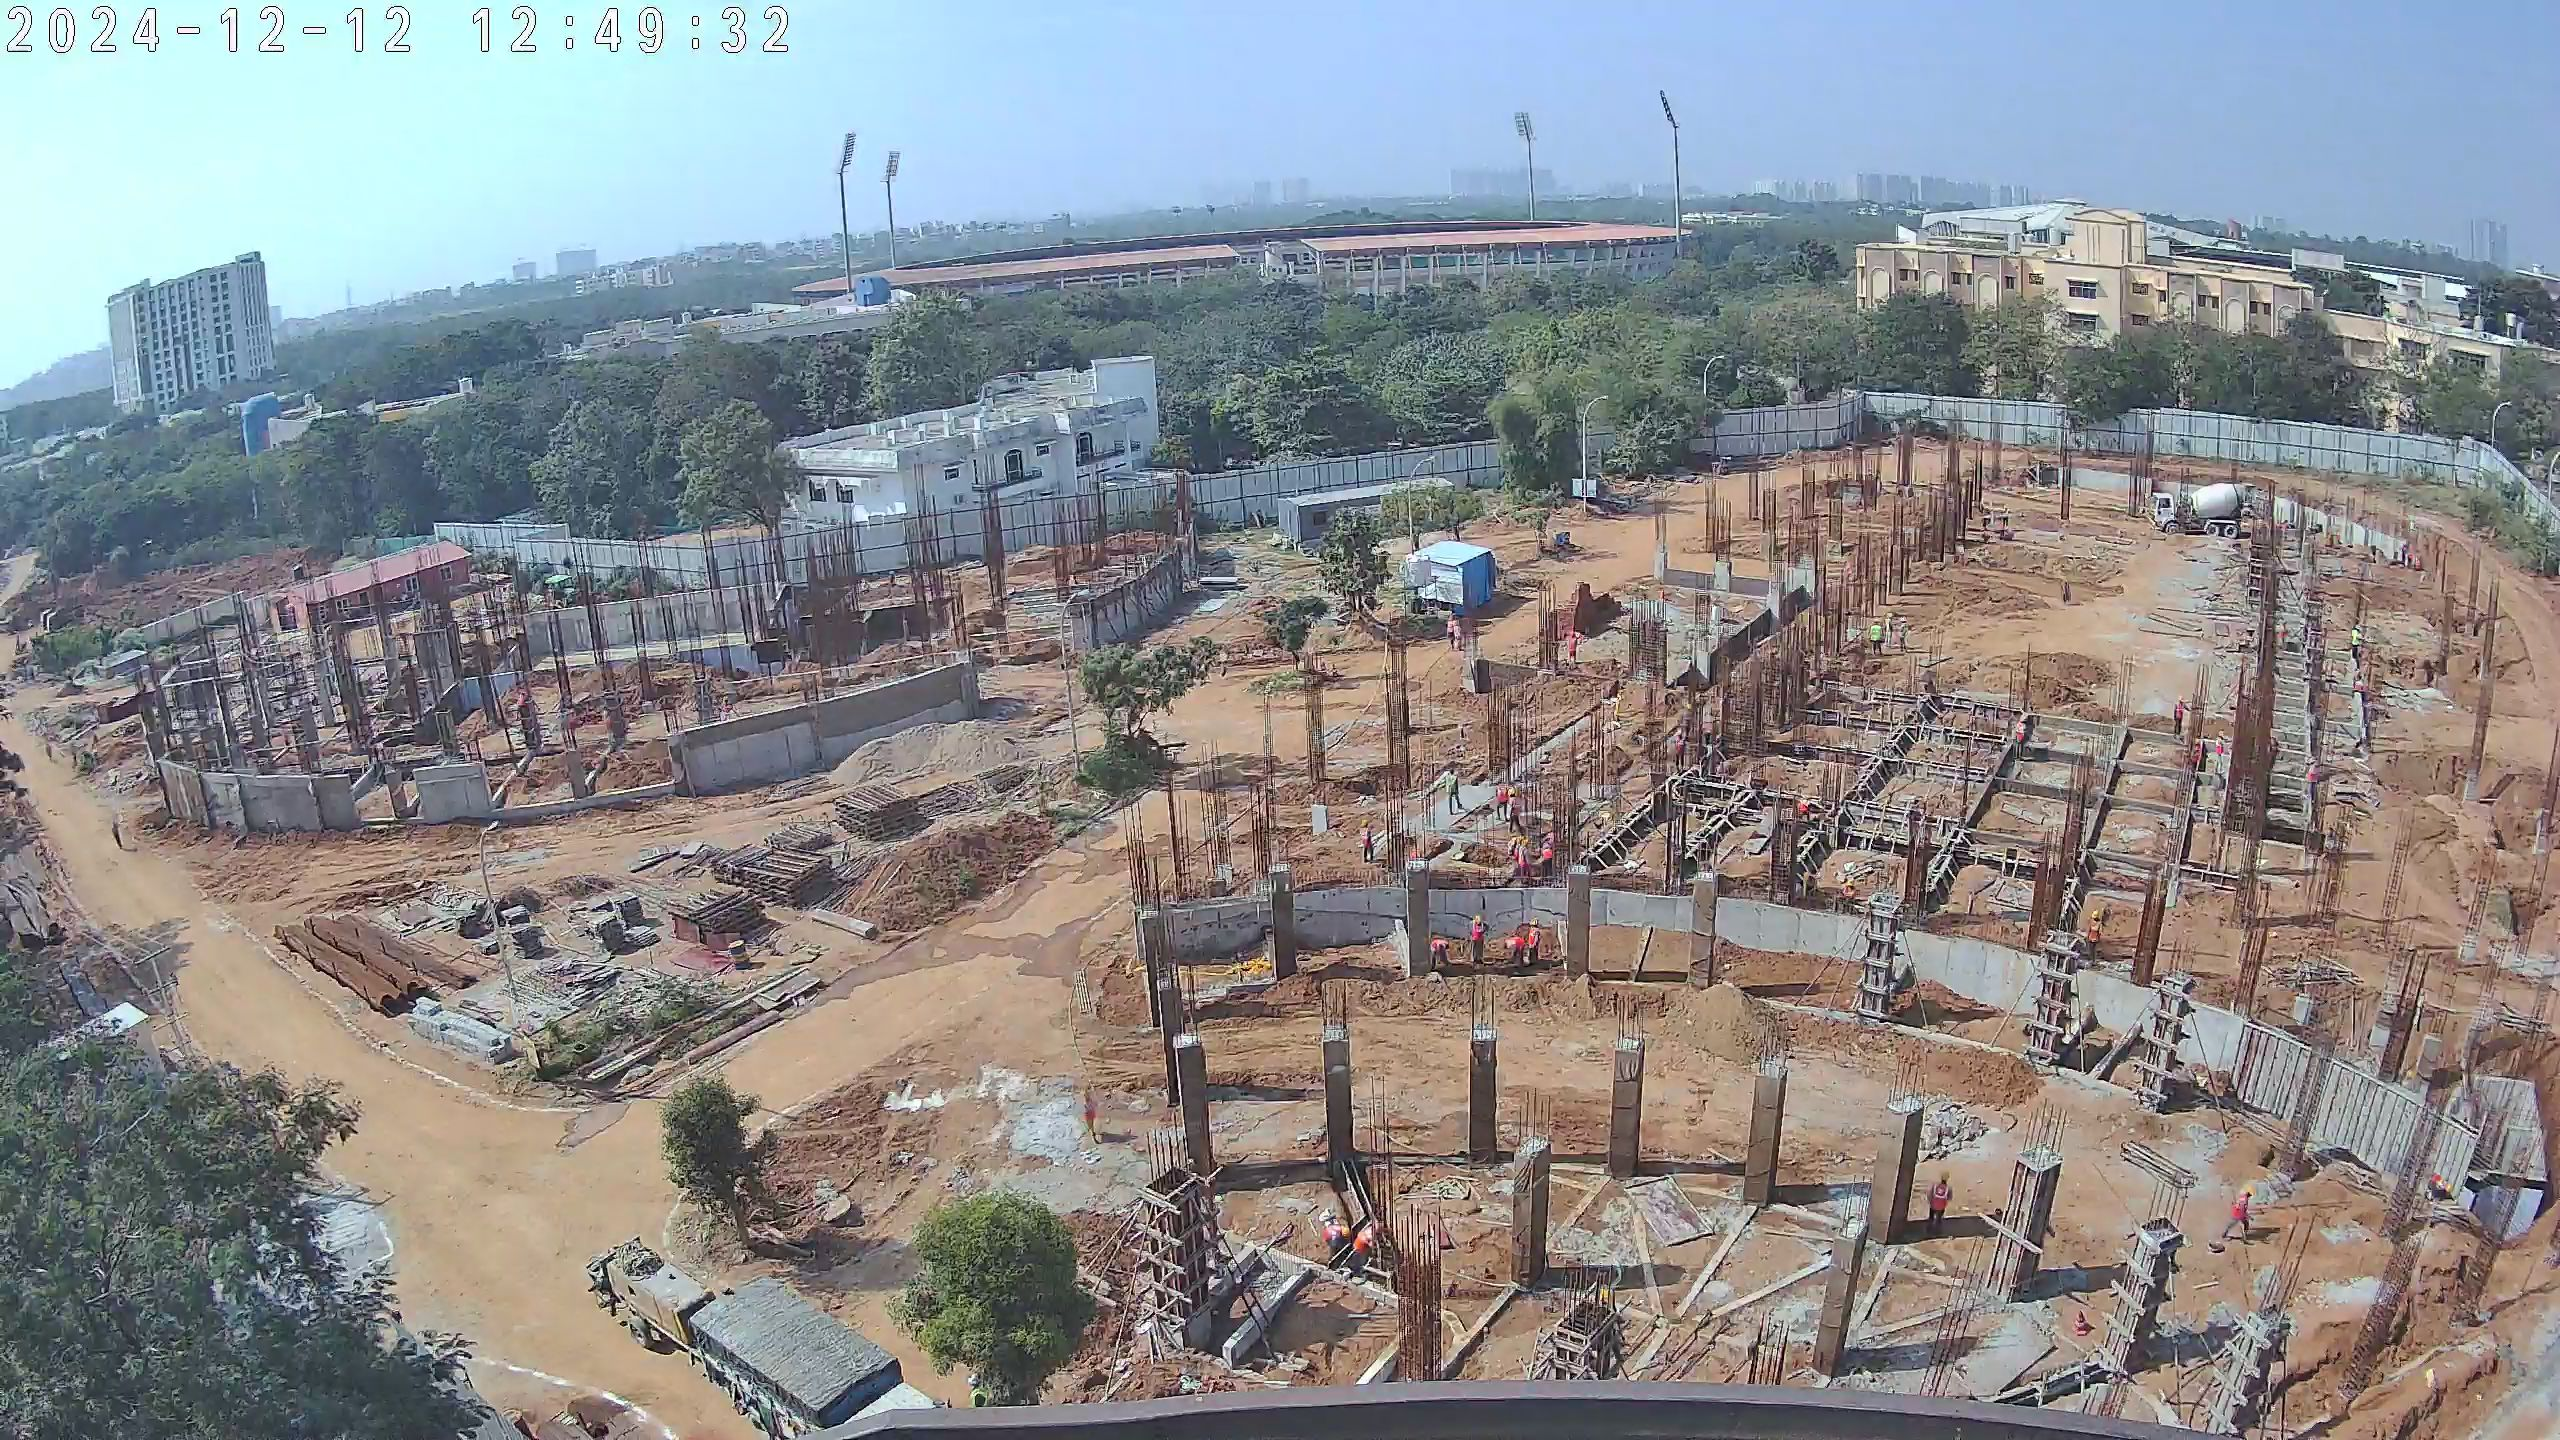truck: (585, 1231, 937, 1440), (2145, 475, 2258, 541)
worker: (1069, 1081, 1113, 1153), (1925, 1162, 1958, 1241), (2222, 1185, 2258, 1256), (2079, 901, 2107, 969), (1349, 1227, 1392, 1271), (1460, 914, 1491, 974), (1832, 866, 1871, 913), (1501, 783, 1531, 839), (1440, 760, 1465, 819), (1522, 910, 1547, 968), (1424, 930, 1456, 975), (1322, 1220, 1354, 1263), (1357, 813, 1382, 868), (1667, 724, 1690, 776), (2302, 750, 2323, 806), (2347, 616, 2368, 671), (1499, 933, 1526, 975), (1490, 780, 1515, 825), (1536, 833, 1560, 879), (2010, 716, 2034, 760), (2168, 692, 2189, 741), (1513, 833, 1533, 883), (2209, 728, 2229, 777), (2184, 736, 2206, 777), (1895, 611, 1915, 655), (103, 819, 126, 856), (1505, 833, 1530, 867), (1563, 628, 1583, 670), (1867, 617, 1886, 659), (1791, 795, 1815, 828), (1880, 609, 1896, 653), (1445, 604, 1459, 645), (1450, 617, 1466, 651), (1999, 507, 2012, 532)
